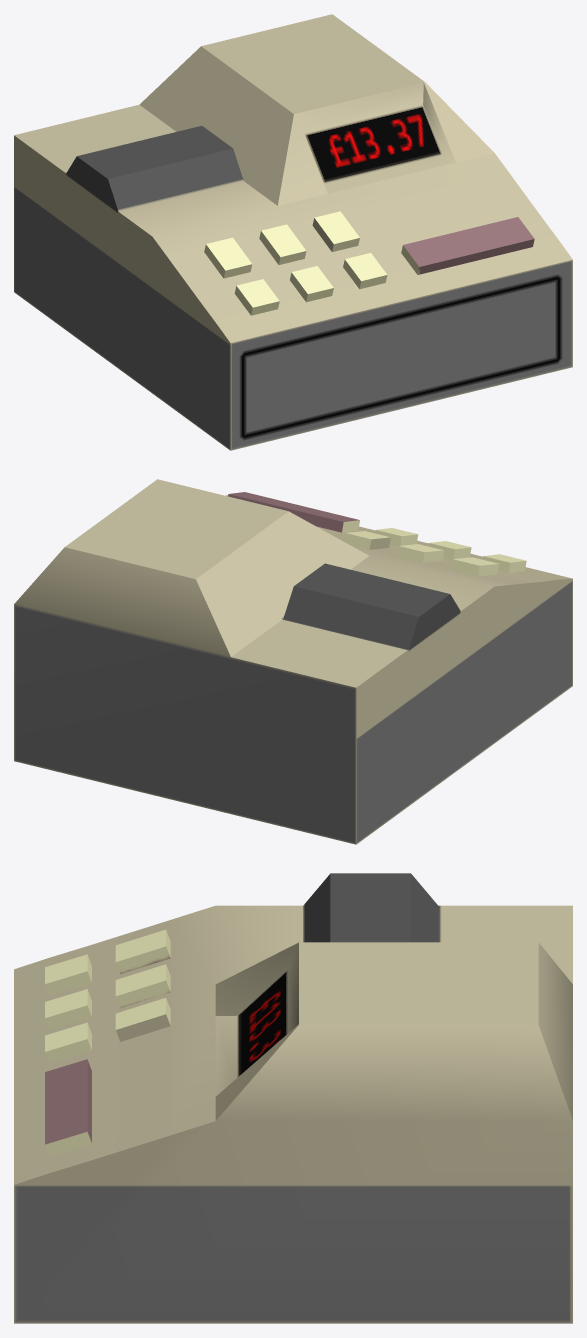
The model's file is Till.fbx.
3 views of the same model, one above another, from view 1: azimuth 30°, elevation 25°; view 2: azimuth 150°, elevation 25°; view 3: azimuth 270°, elevation 25° (orthographic). The views are drawn at different scales.
Parts seen in each view (by area): view 1: polySurface1; view 2: polySurface1; view 3: polySurface1.
Boxes of the visible parts, <box> form: polySurface1: <box>14,14,572,450</box>; polySurface1: <box>14,479,572,844</box>; polySurface1: <box>14,873,572,1323</box>.
Size of the model in its own units: 42.22 by 25.14 by 46.28.
1 material, 1 textured.
